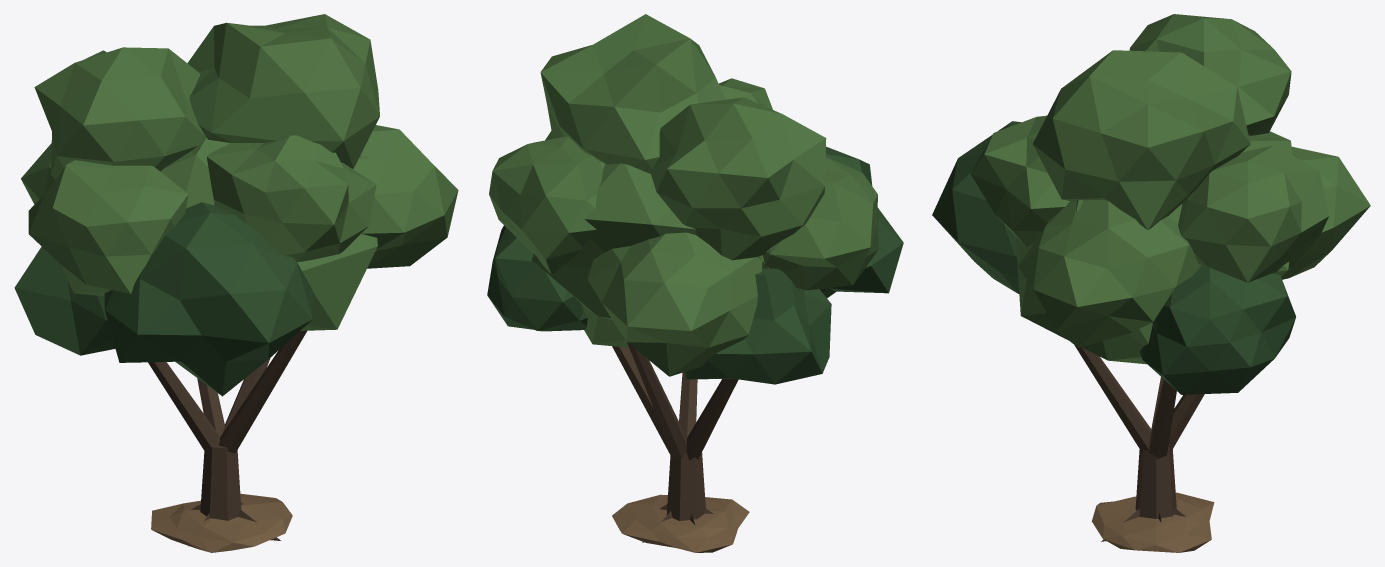
Rendered from roof_tree.glb.
The picture shows the model from 3 angles, left to right: view 1: azimuth 30°, elevation 25°; view 2: azimuth 150°, elevation 25°; view 3: azimuth 270°, elevation 25°; orthographic projection. The views are drawn at different scales.
Parts seen in each view (by area): view 1: roof_tree; view 2: roof_tree; view 3: roof_tree.
Part boxes in pixels (bbox=[...]): roof_tree: bbox=[14, 14, 458, 552]; roof_tree: bbox=[487, 14, 903, 552]; roof_tree: bbox=[932, 14, 1370, 552].
Bounding box in the file's own units: 2.96 × 3.64 × 2.94.
1 material, 1 textured.
